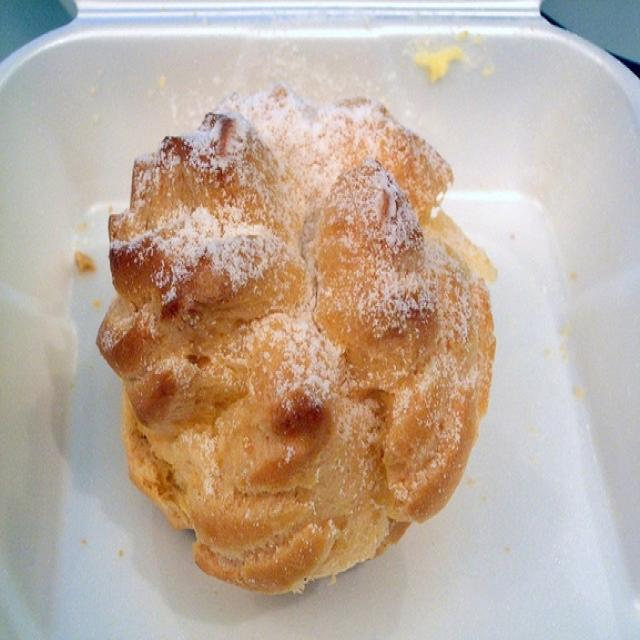炸货点心: (71, 60, 519, 618)
蛋糕甜品: (71, 60, 519, 618)
